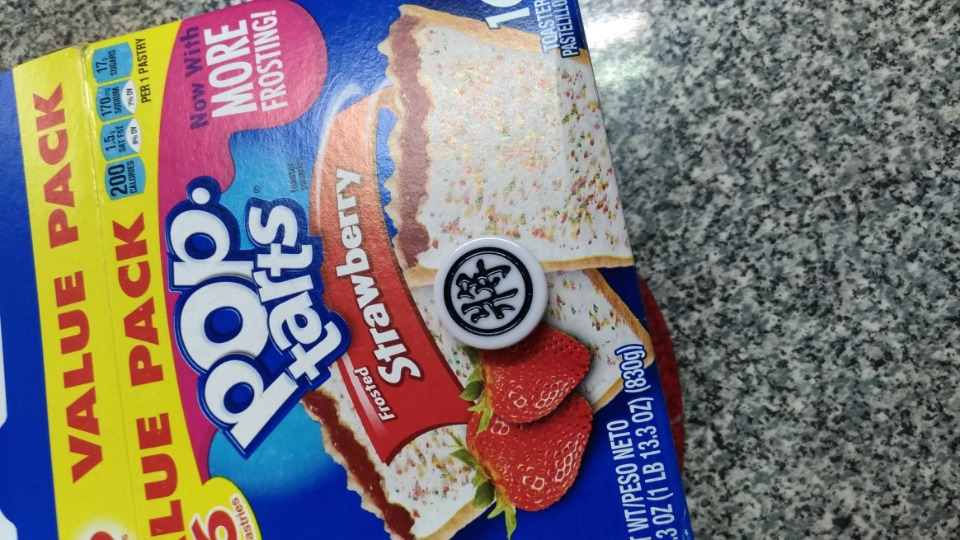b-king: (423, 235, 569, 351)
